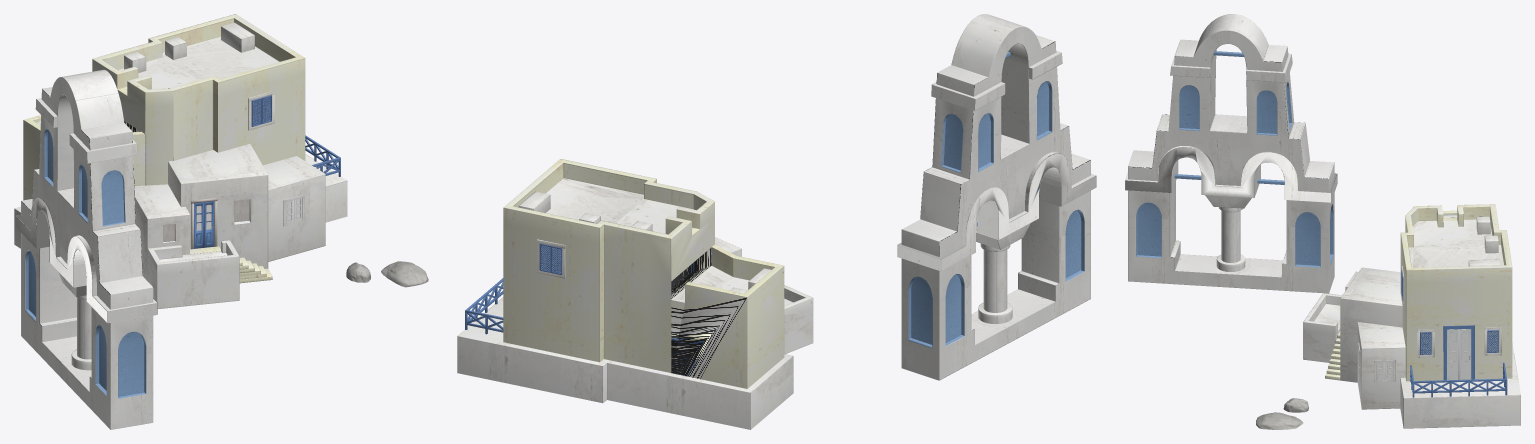
The model's file is website-scene-1.glb.
The picture shows the model from 3 angles, left to right: view 1: azimuth 30°, elevation 25°; view 2: azimuth 150°, elevation 25°; view 3: azimuth 270°, elevation 25°; orthographic projection. The views are drawn at different scales.
Parts seen in each view (by area): view 1: Scene1: Building, Scene1: Bell Tower, Scene1: Rocks; view 2: Scene1: Building, Scene1: Bell Tower; view 3: Scene1: Bell Tower, Scene1: Building, Scene1: Rocks.
Boxes of the visible parts, left/top/right/bottom form: Scene1: Building: left=14, top=14, right=347, bottom=308; Scene1: Bell Tower: left=16, top=69, right=157, bottom=429; Scene1: Rocks: left=346, top=261, right=428, bottom=287; Scene1: Building: left=457, top=159, right=813, bottom=429; Scene1: Bell Tower: left=897, top=14, right=1096, bottom=380; Scene1: Bell Tower: left=1125, top=14, right=1337, bottom=293; Scene1: Building: left=1303, top=204, right=1520, bottom=428; Scene1: Rocks: left=1256, top=398, right=1308, bottom=429.
Bounding box in the file's own units: 37.06 × 26.87 × 37.27.
Materials: 3 (3 with a texture image).
